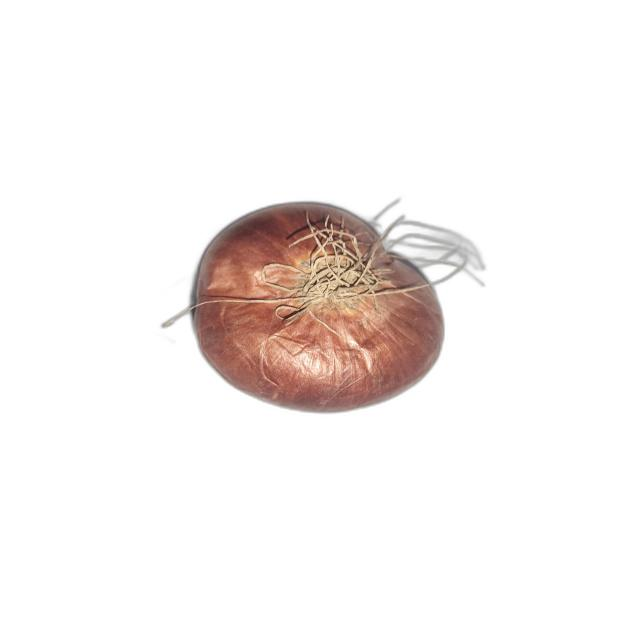onion: (188, 200, 445, 413)
